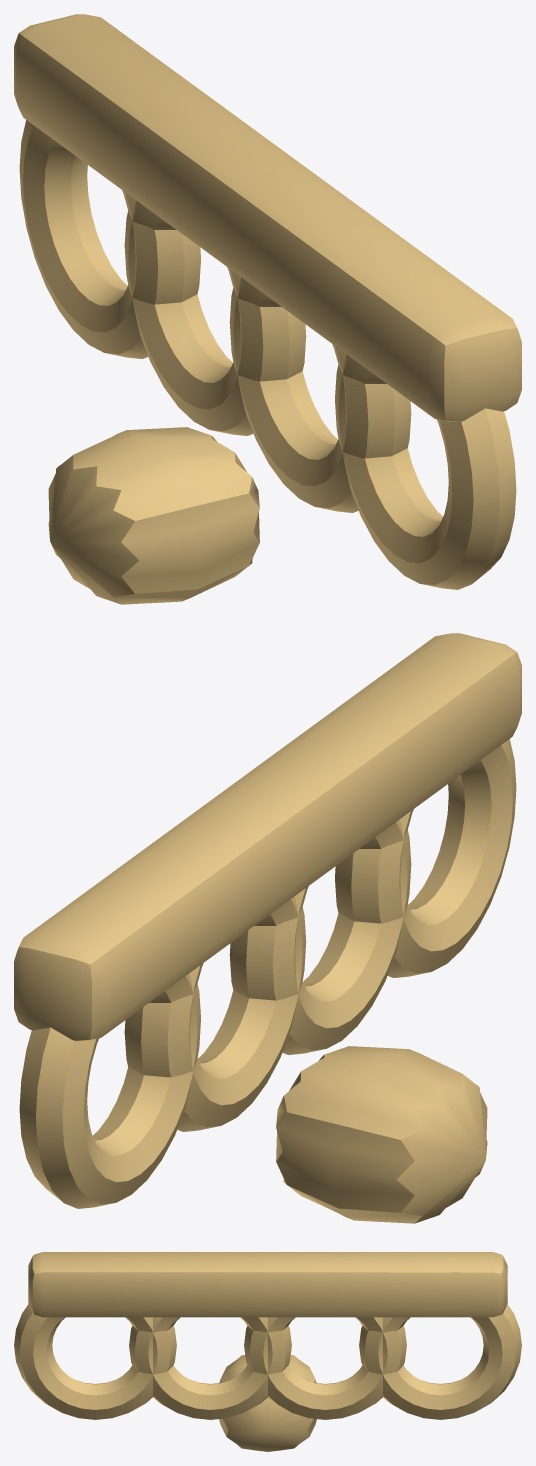
The model's file is knuckles.glb.
The picture shows the model from 3 angles, top to bottom: view 1: azimuth 30°, elevation 25°; view 2: azimuth 150°, elevation 25°; view 3: azimuth 270°, elevation 25°; orthographic projection. The views are drawn at different scales.
Parts seen in each view (by area): view 1: bar, palm_bar, ring0, ring3, ring2, ring1; view 2: bar, palm_bar, ring3, ring0, ring1, ring2; view 3: bar, ring0, ring3, ring1, ring2, palm_bar.
Boxes of the visible parts, x1,y1,x2,y2 form: bar: (14,14,521,421); palm_bar: (48,427,259,604); ring0: (335,354,516,589); ring3: (19,120,200,358); ring2: (124,200,306,435); ring1: (229,277,411,512); bar: (14,633,521,1040); palm_bar: (276,1046,487,1223); ring3: (19,973,200,1208); ring0: (335,739,516,977); ring1: (229,819,411,1054); ring2: (124,896,306,1131); bar: (28,1252,507,1317); ring0: (14,1304,176,1419); ring3: (359,1304,521,1419); ring1: (129,1317,291,1419); ring2: (244,1317,406,1419); palm_bar: (219,1355,316,1451).
Bounding box in the file's own units: 0.0347 × 0.0492 × 0.106.
Materials: 1 (1 with a texture image).
